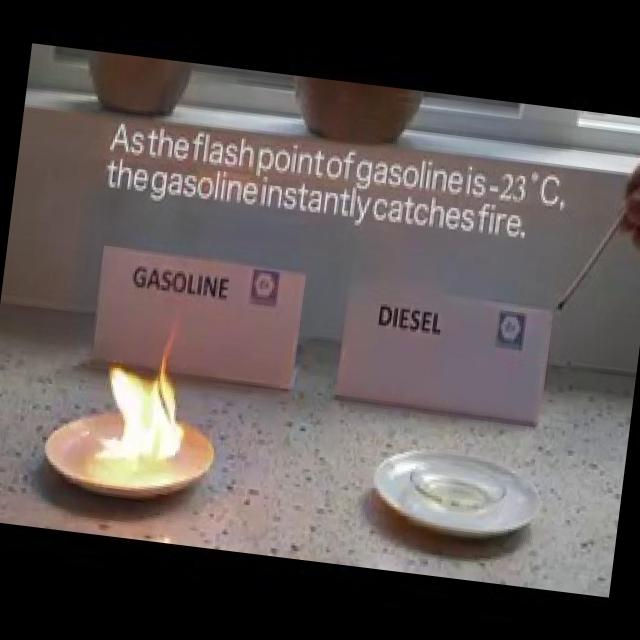Fire: (87, 316, 202, 480)
